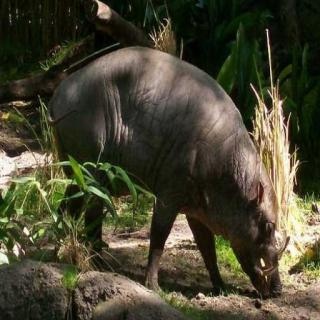Pig: (59, 50, 301, 302)
